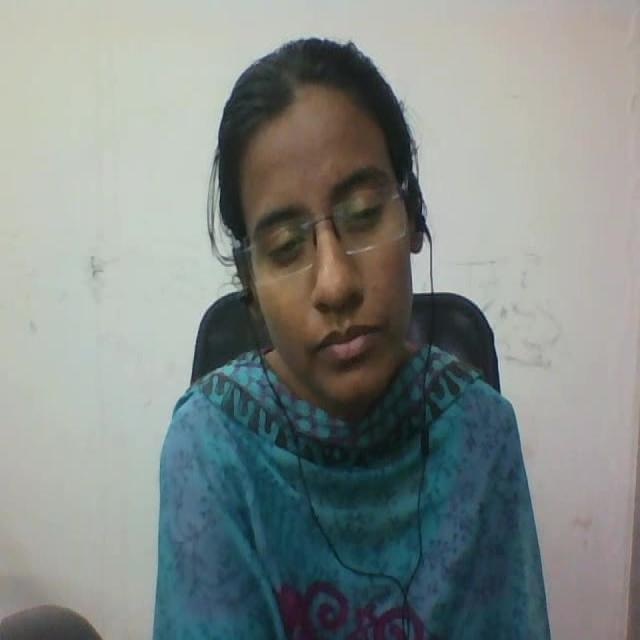Engaged: (197, 42, 441, 399)
